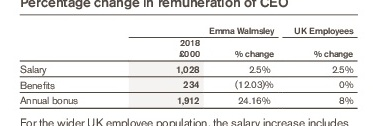table: (0, 0, 373, 126)
